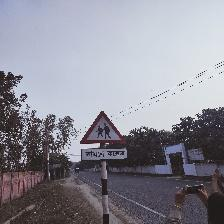College-in-front: (58, 89, 145, 173)
